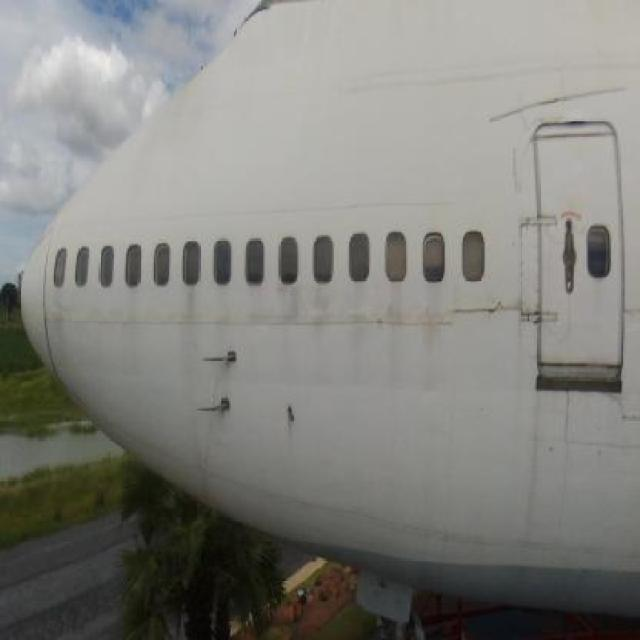Missing-Rivet: (516, 210, 541, 327)
Scartch: (478, 58, 630, 122), (444, 297, 519, 326), (504, 140, 527, 195)
